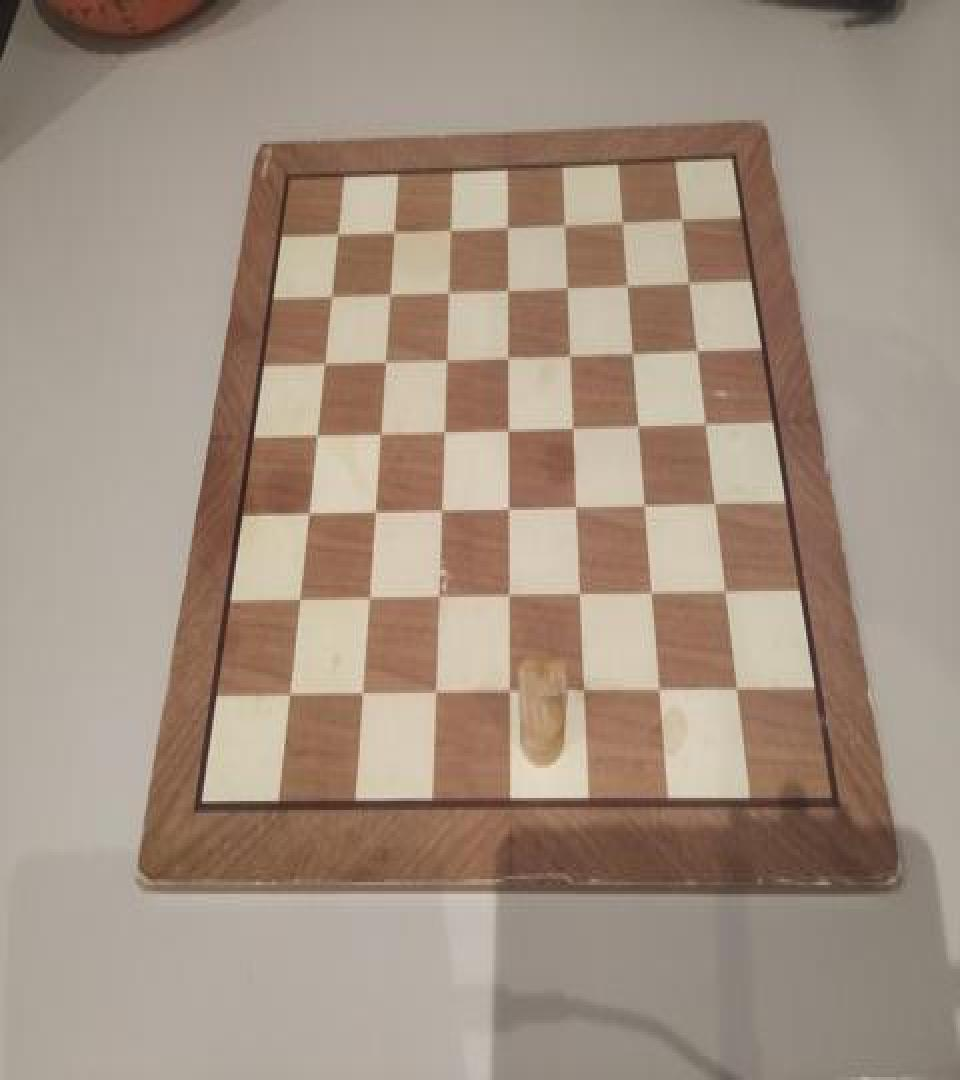xcorner: (285, 680, 305, 710), (359, 678, 379, 708), (433, 676, 453, 706), (507, 676, 527, 706), (581, 675, 601, 705), (730, 672, 750, 702), (294, 584, 314, 614), (364, 582, 384, 612), (577, 579, 597, 609), (648, 578, 668, 608), (719, 576, 739, 606), (302, 496, 322, 526), (370, 495, 390, 525), (437, 494, 457, 524), (505, 492, 525, 522), (573, 490, 593, 520), (640, 489, 660, 519), (708, 489, 728, 519), (310, 416, 330, 446), (374, 414, 394, 444), (439, 412, 459, 442), (504, 412, 524, 442), (569, 411, 589, 441), (634, 410, 654, 440), (699, 408, 719, 438), (316, 342, 336, 372), (379, 340, 399, 370), (441, 339, 461, 369), (503, 338, 523, 368), (565, 338, 585, 368), (628, 336, 648, 366), (690, 334, 710, 364), (323, 273, 343, 303), (383, 273, 403, 303), (442, 272, 462, 302), (502, 270, 522, 300), (562, 268, 582, 298), (622, 268, 642, 298), (682, 267, 702, 297), (329, 210, 349, 240), (386, 210, 406, 240), (444, 208, 464, 238), (501, 207, 521, 237), (559, 206, 579, 236), (617, 206, 637, 236), (674, 204, 694, 234), (656, 674, 676, 703), (435, 581, 455, 610), (506, 581, 526, 610)
